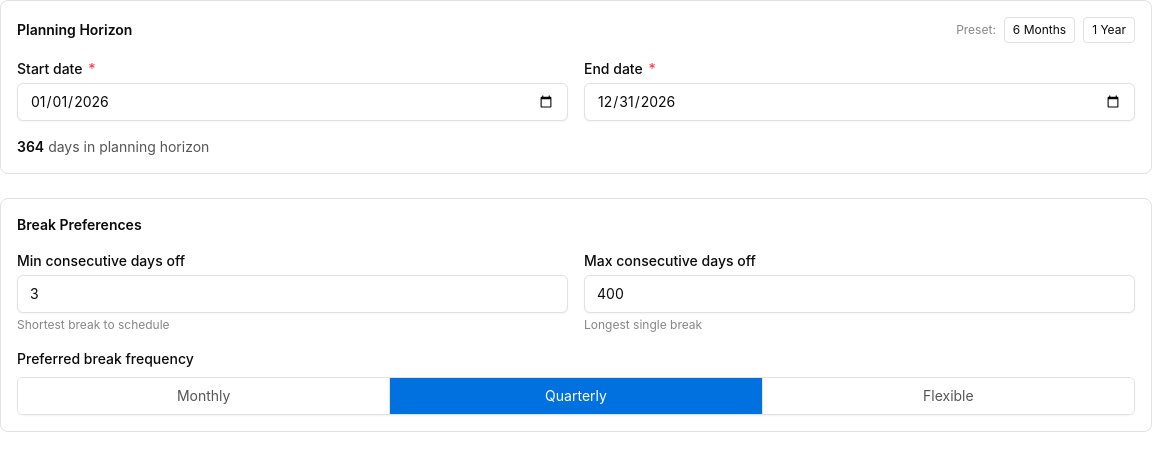
Scenario: PreferencesForm › min/max days validation › shows error for max days > 365
The width and height of the screenshot is (1152, 469).
Click the number field labelled "Max consecutive days off".
click(860, 294)  # box [584, 275, 1135, 313]
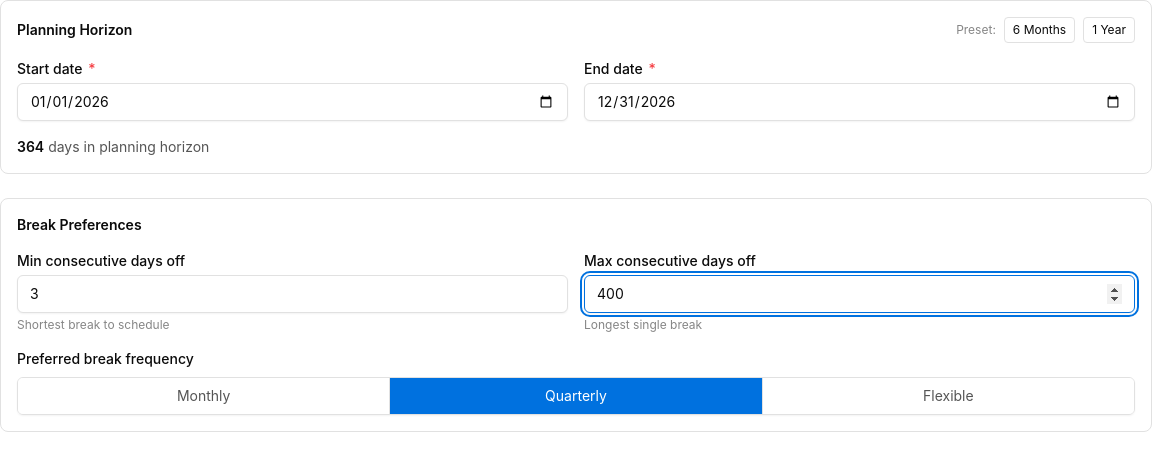
Press Tab
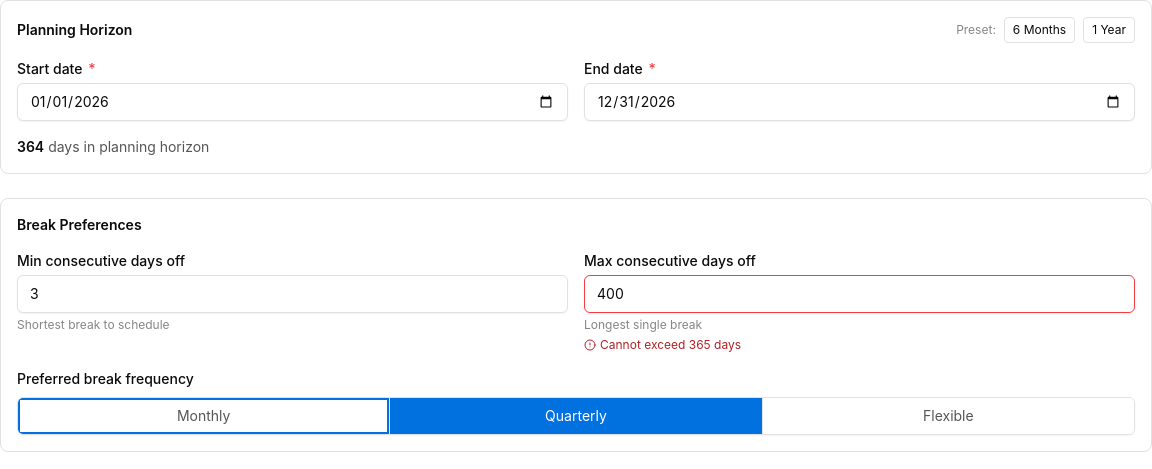
Check: the text "Cannot exceed 365 days" is shown, box [584, 337, 741, 352]
